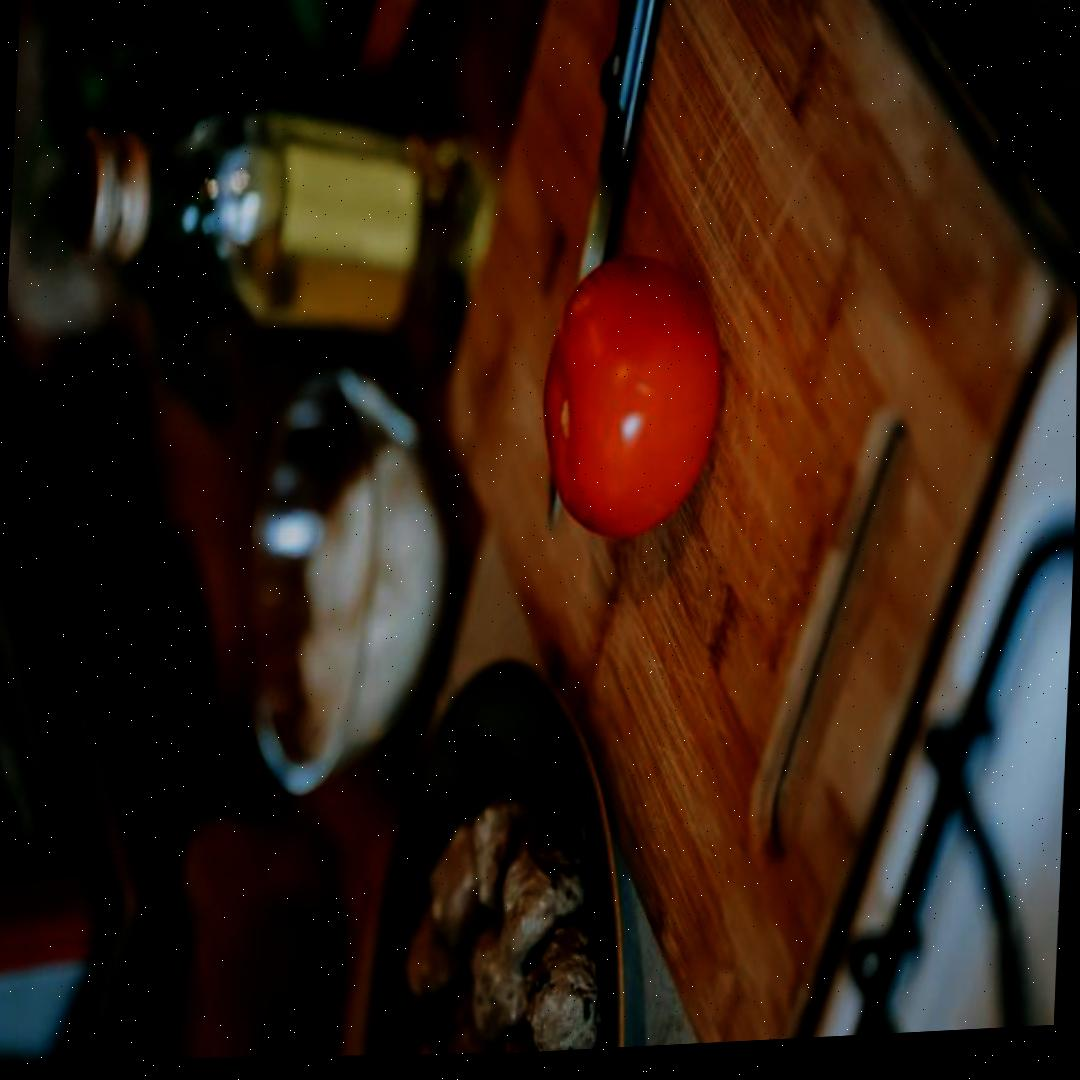matang: (537, 247, 726, 542)
